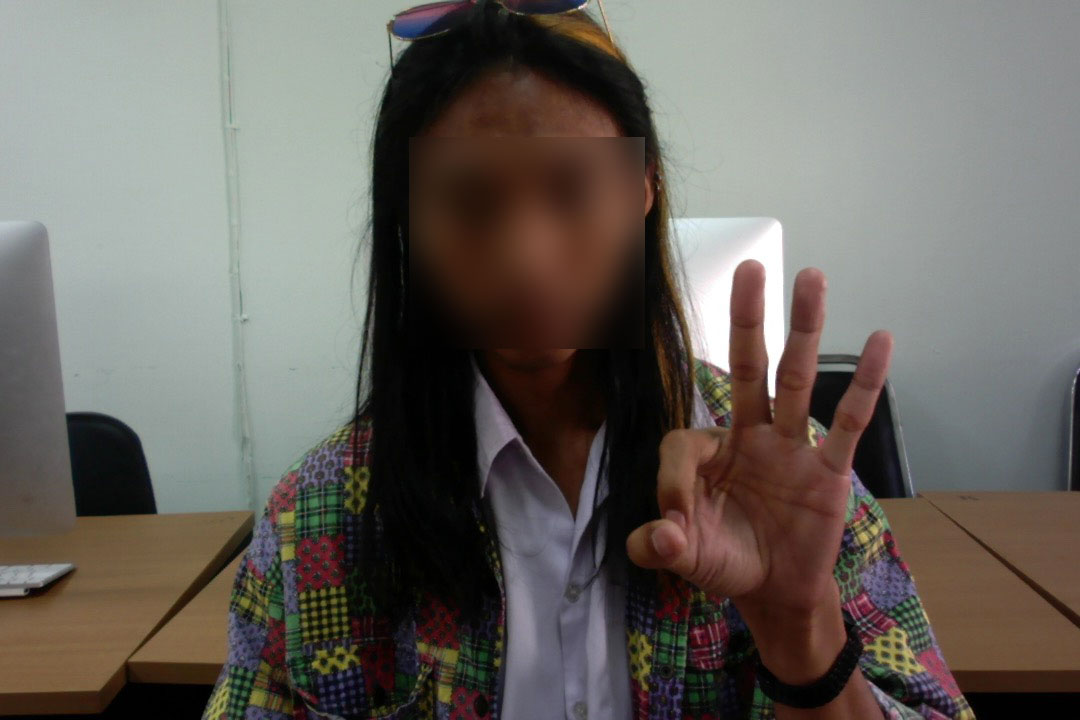for: (573, 223, 949, 697)
